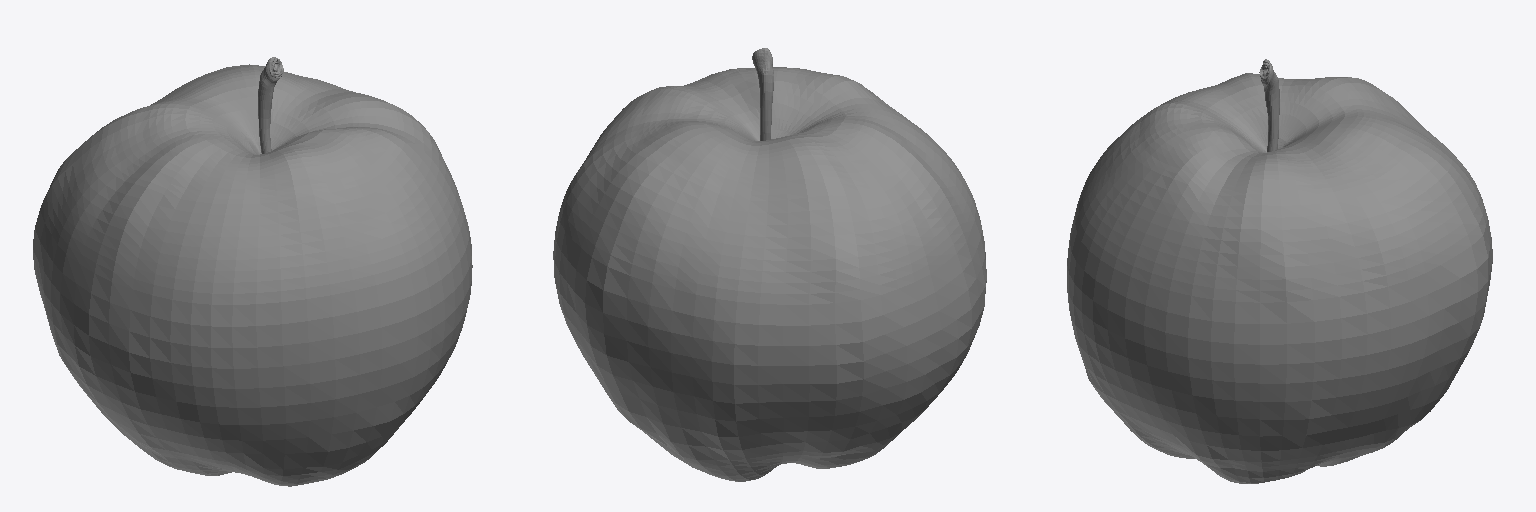
3 renders of one model, left to right at view 1: azimuth 30°, elevation 25°; view 2: azimuth 150°, elevation 25°; view 3: azimuth 270°, elevation 25°, orthographic.
Visible parts, largest first — view 1: Apple_1; view 2: Apple_1; view 3: Apple_1.
Part boxes in pixels (left/top/right/bottom): Apple_1: left=33, top=57, right=472, bottom=486; Apple_1: left=553, top=48, right=986, bottom=481; Apple_1: left=1067, top=59, right=1492, bottom=483.
Bounding box in the file's own units: 20.05 × 20.7 × 19.92.